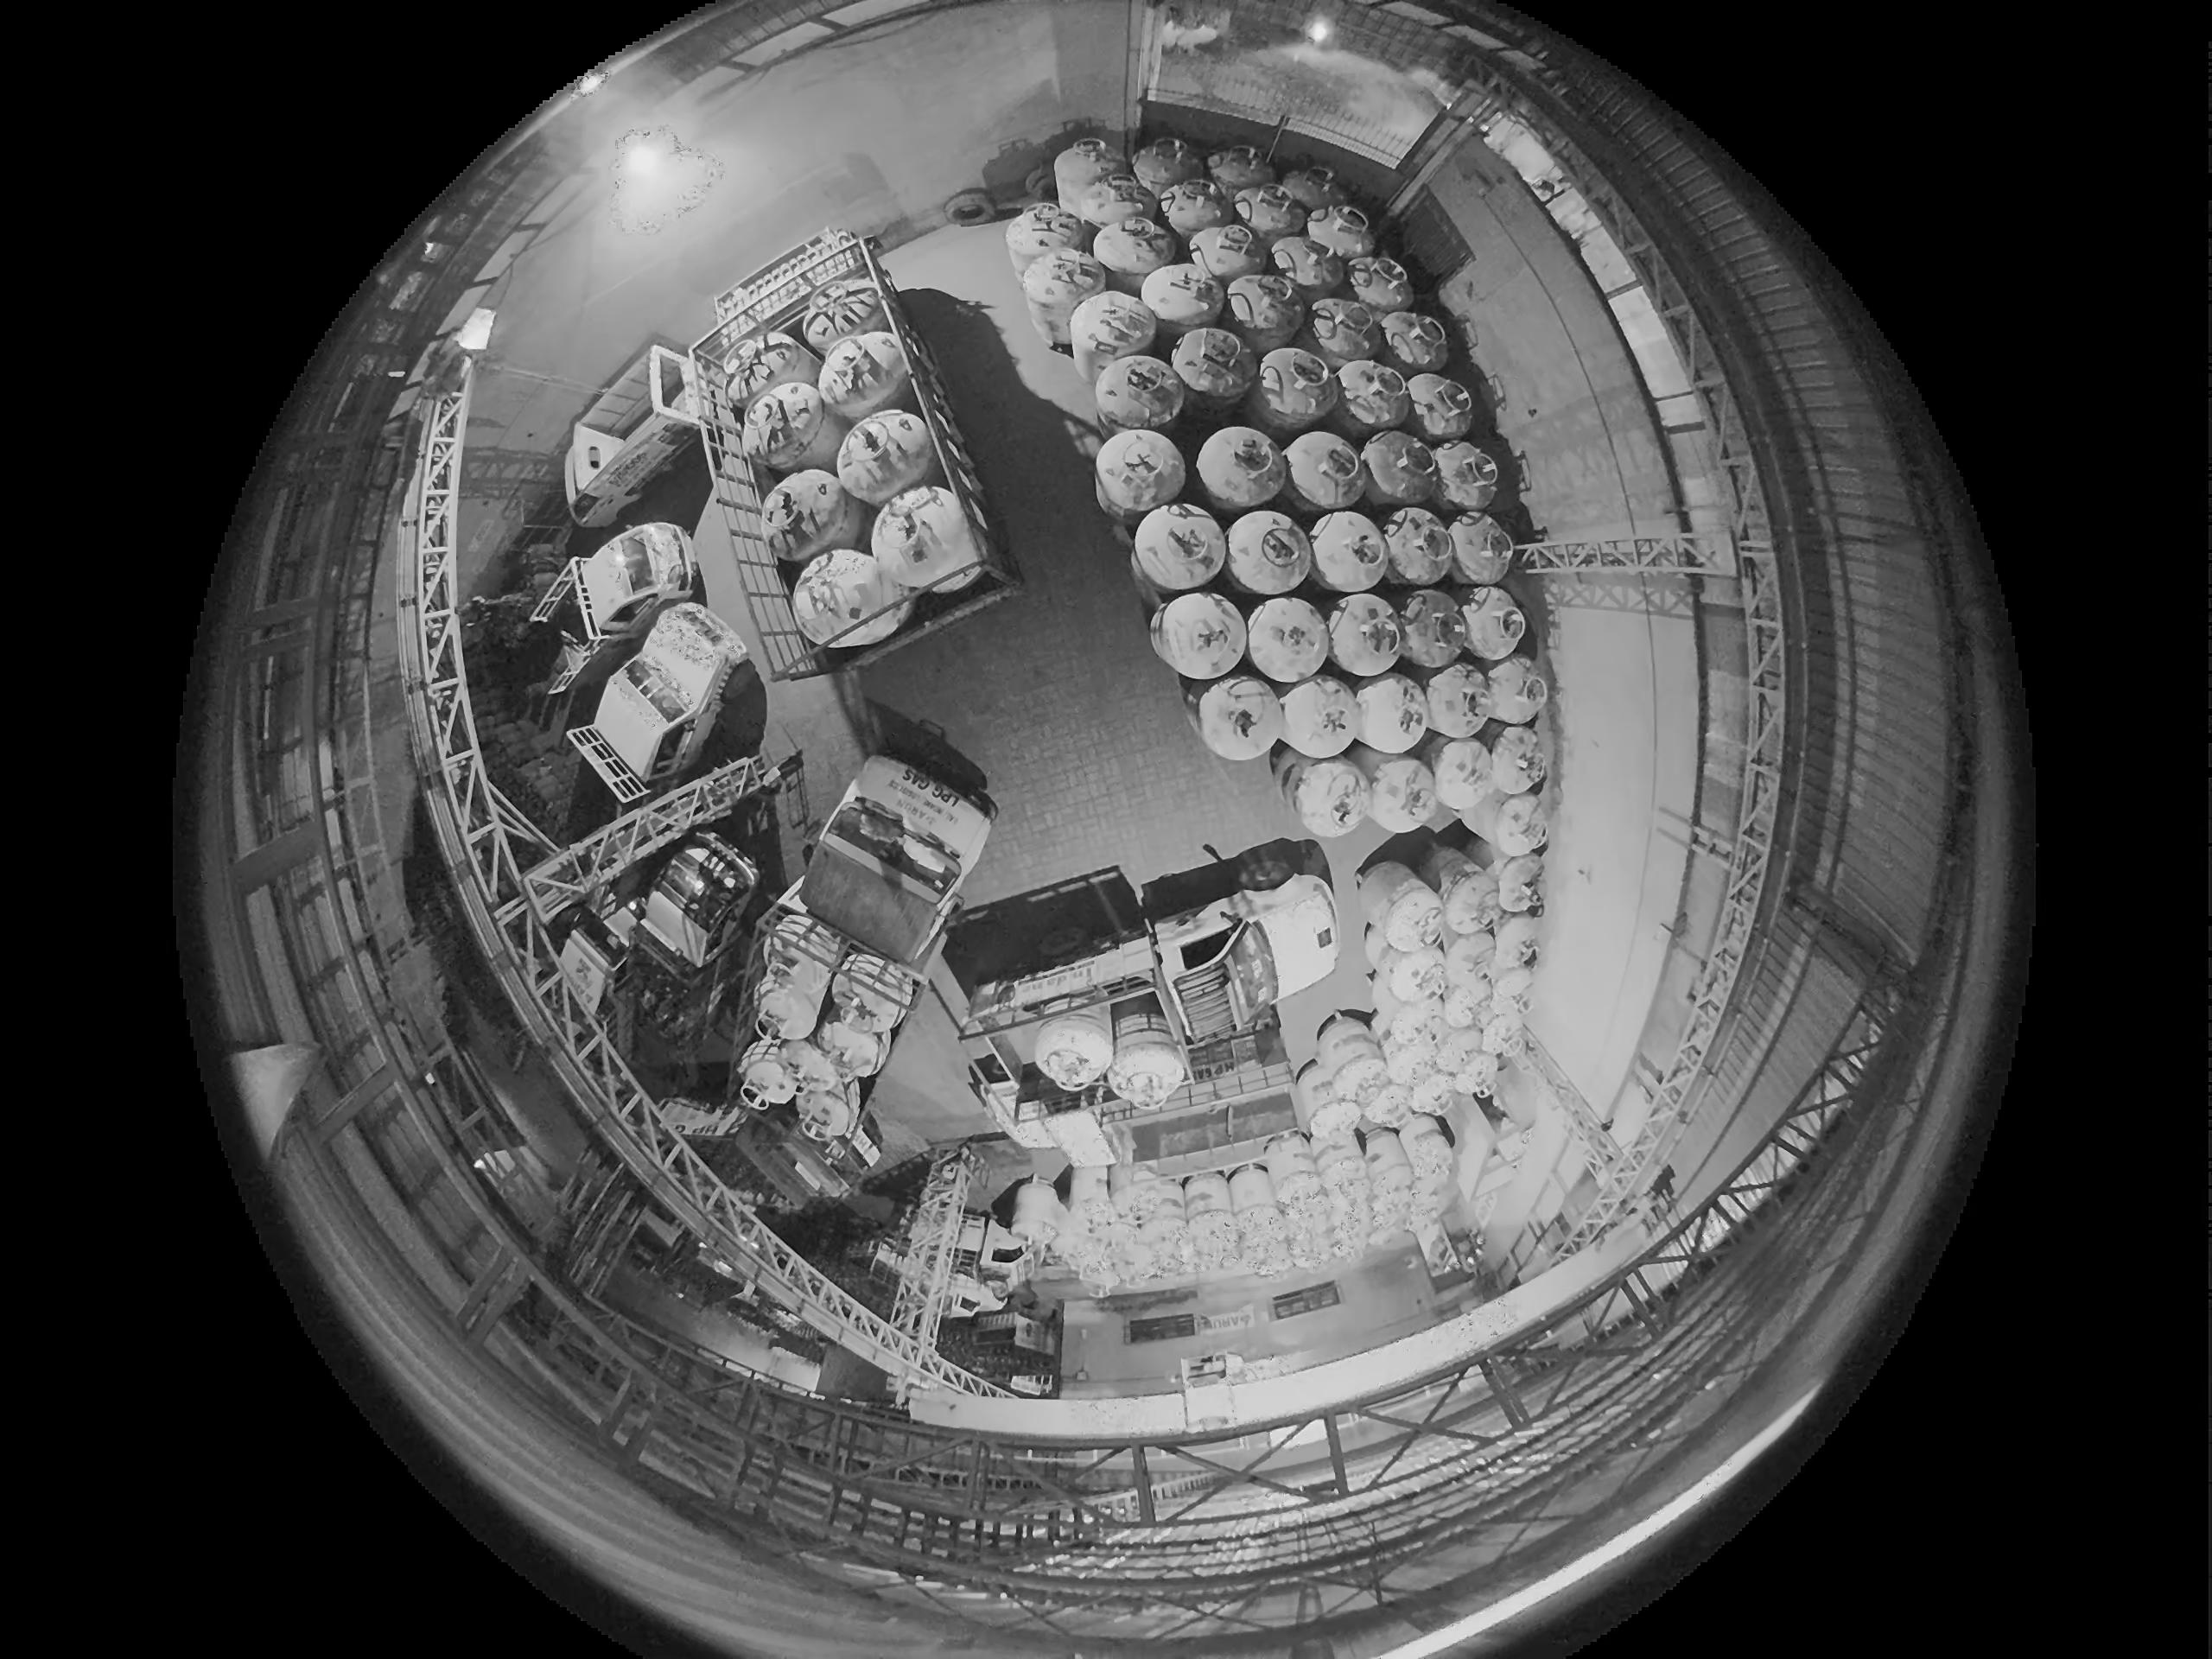cylinder: (1238, 875, 1341, 981), (765, 469, 864, 563), (740, 380, 834, 477), (1150, 587, 1249, 680), (1264, 1143, 1336, 1270), (1132, 500, 1226, 592), (1096, 429, 1186, 525), (817, 331, 913, 420), (1017, 253, 1103, 352), (1195, 425, 1287, 514), (721, 333, 820, 415), (1068, 291, 1158, 380), (1224, 507, 1315, 594), (1193, 673, 1284, 760), (1245, 596, 1332, 683), (1280, 430, 1367, 518), (1092, 352, 1183, 436), (1306, 507, 1392, 594), (799, 277, 890, 355), (1169, 326, 1256, 406), (1003, 1171, 1078, 1263), (1280, 674, 1362, 758), (1325, 591, 1407, 674), (1285, 753, 1369, 833), (1357, 861, 1437, 943), (1033, 1012, 1113, 1094), (1306, 1012, 1386, 1094), (1360, 429, 1440, 509), (1254, 347, 1336, 425), (1379, 505, 1458, 587), (1139, 261, 1226, 335), (1353, 673, 1432, 753), (1003, 202, 1089, 275), (1332, 357, 1411, 436), (1291, 1051, 1366, 1133), (1223, 272, 1305, 343), (1092, 213, 1177, 281), (1367, 755, 1442, 831), (1393, 589, 1467, 666), (1400, 1114, 1458, 1211), (1454, 586, 1526, 662), (1186, 218, 1266, 286), (1428, 439, 1501, 512), (1402, 371, 1475, 444), (1052, 139, 1127, 211), (1423, 662, 1493, 739), (1446, 509, 1514, 586), (1308, 298, 1385, 366), (1045, 1108, 1116, 1180), (1430, 737, 1498, 810), (1479, 655, 1548, 725), (1381, 1023, 1451, 1093), (772, 1037, 845, 1103), (1308, 1182, 1367, 1262), (1376, 310, 1449, 375), (1268, 235, 1343, 298), (1421, 840, 1489, 908), (1487, 723, 1550, 796), (1158, 176, 1233, 237), (1381, 941, 1449, 1007), (1305, 202, 1376, 265), (1233, 186, 1306, 247), (1439, 870, 1501, 939), (1367, 976, 1430, 1046), (1075, 174, 1150, 232), (754, 979, 822, 1042), (1345, 254, 1414, 314), (1440, 929, 1500, 997), (1233, 1204, 1292, 1272), (817, 1018, 885, 1077), (1454, 793, 1519, 854), (1491, 791, 1548, 857), (1132, 138, 1198, 195), (1463, 828, 1533, 882), (1186, 1206, 1242, 1272), (1205, 145, 1275, 197), (1440, 967, 1498, 1030), (737, 1051, 799, 1108), (794, 1086, 855, 1143), (1359, 1129, 1414, 1192), (1435, 1025, 1491, 1086), (1366, 915, 1421, 976), (1493, 854, 1547, 917), (1066, 1162, 1116, 1229), (1489, 915, 1543, 976), (1280, 166, 1345, 216), (1400, 1068, 1460, 1121), (1226, 1161, 1278, 1220), (1109, 1162, 1163, 1216), (1179, 1169, 1231, 1223), (1360, 1080, 1416, 1131), (1310, 1122, 1366, 1173), (1261, 1131, 1313, 1183), (1480, 1007, 1531, 1060), (1139, 1211, 1188, 1263), (1489, 960, 1538, 1011), (1139, 1178, 1186, 1223), (1022, 164, 1061, 204)
truck: (693, 228, 1019, 680), (954, 863, 1350, 1093), (566, 603, 749, 840), (608, 833, 752, 1086), (467, 556, 705, 685), (536, 383, 723, 532), (1160, 906, 1174, 934)
